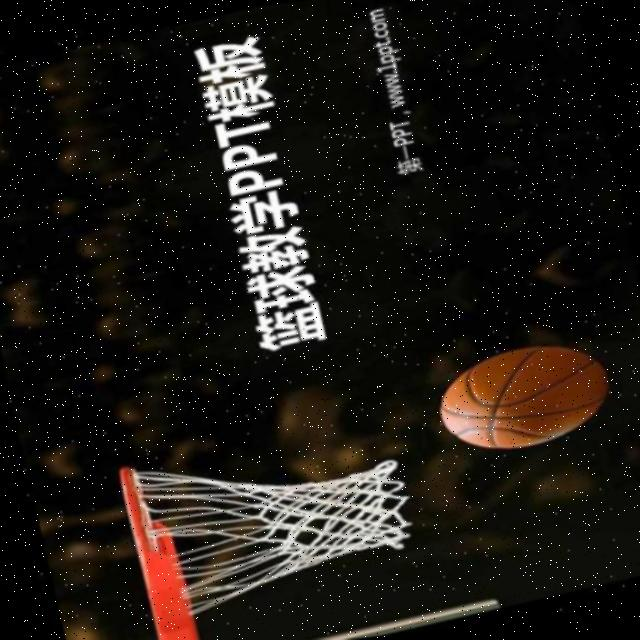ball: (426, 328, 622, 464)
hoop: (113, 452, 193, 640)
